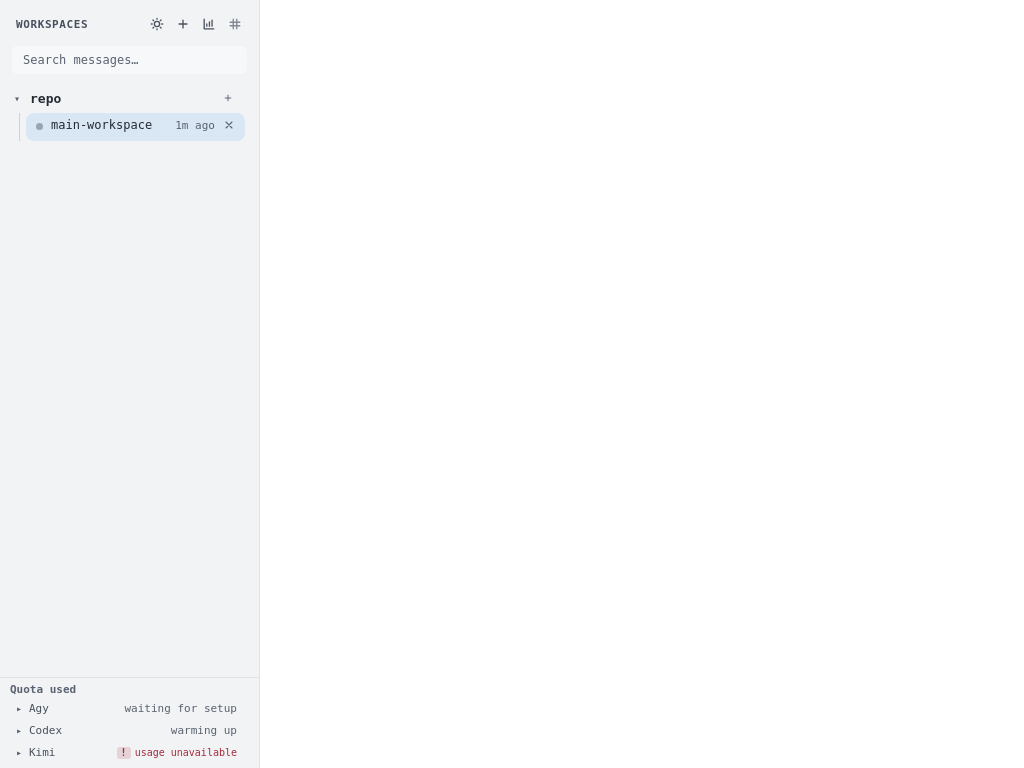
it: gives explicit setup instructions and distinguishes warming from a transient quota error
The width and height of the screenshot is (1024, 768).
Expected: the element showing "waiting for setup" is shown, [124,702,237,715]
Expected: the element showing "warming up" is shown, [171,724,237,737]
Click the button "▸ Agy waiting for setup": (126, 708) [10,698,241,719]
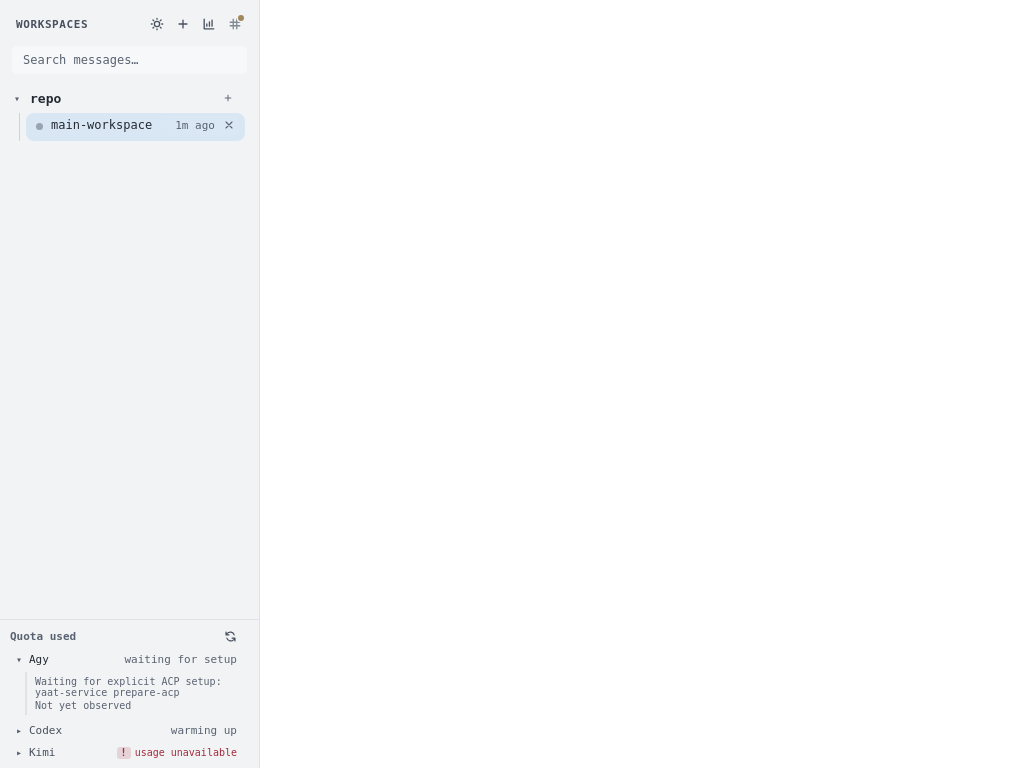
Expected: the text "yaat-service prepare-acp" is shown, [35,687,180,698]
